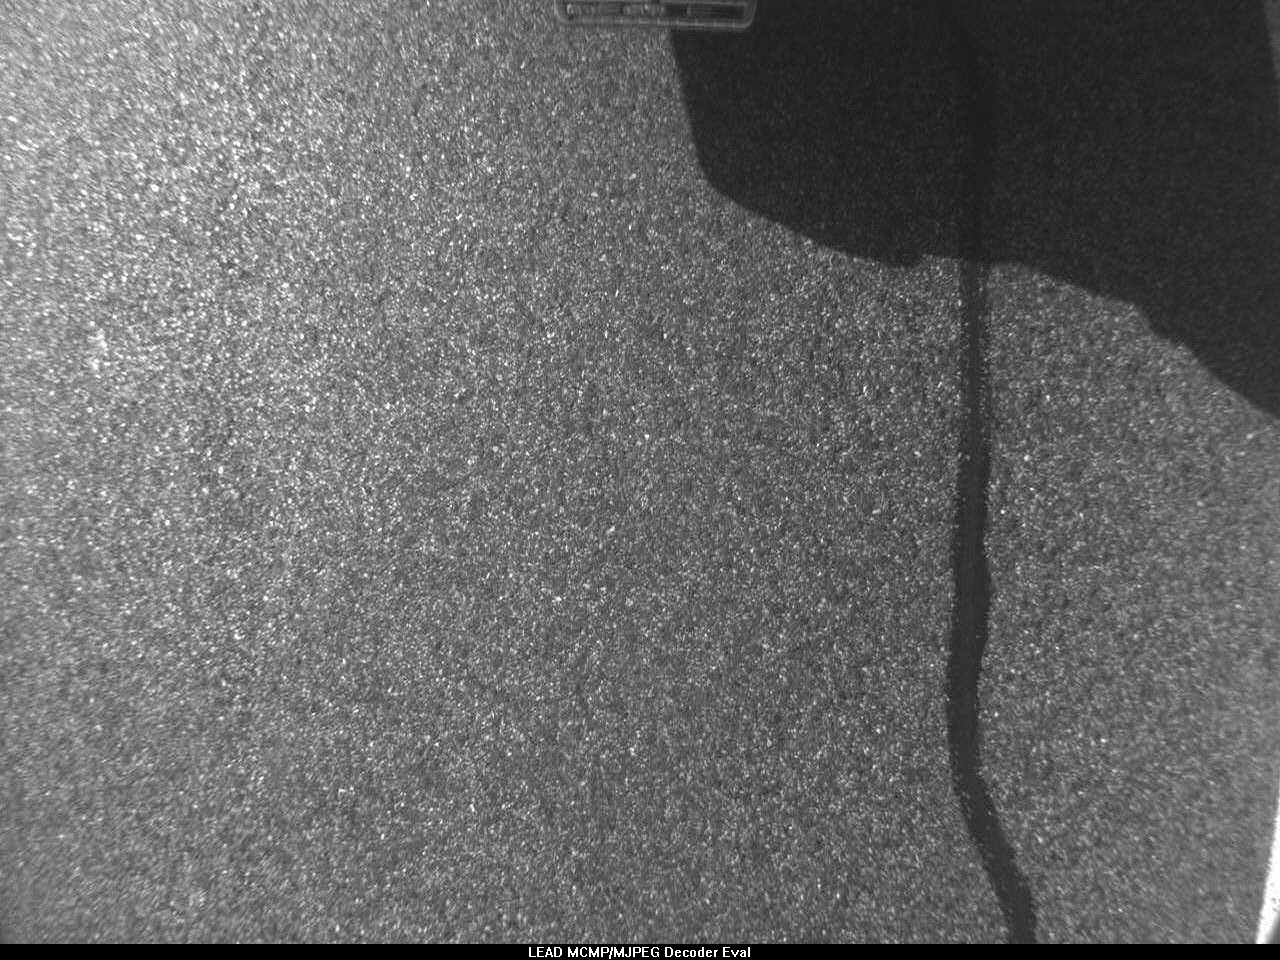sealed: (929, 281, 1031, 938)
